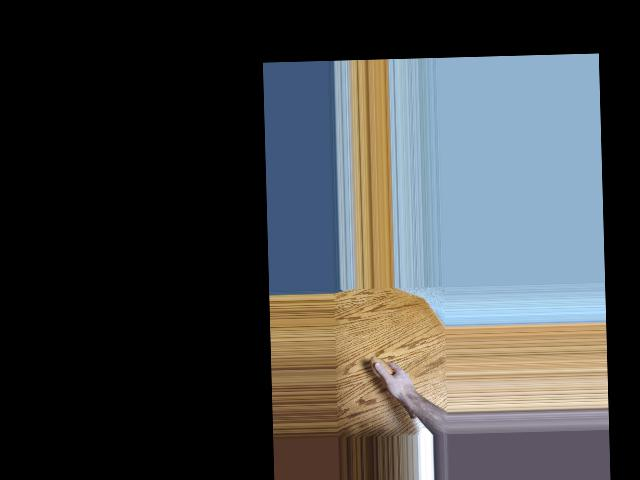sweet_potato: (370, 355, 417, 421)
